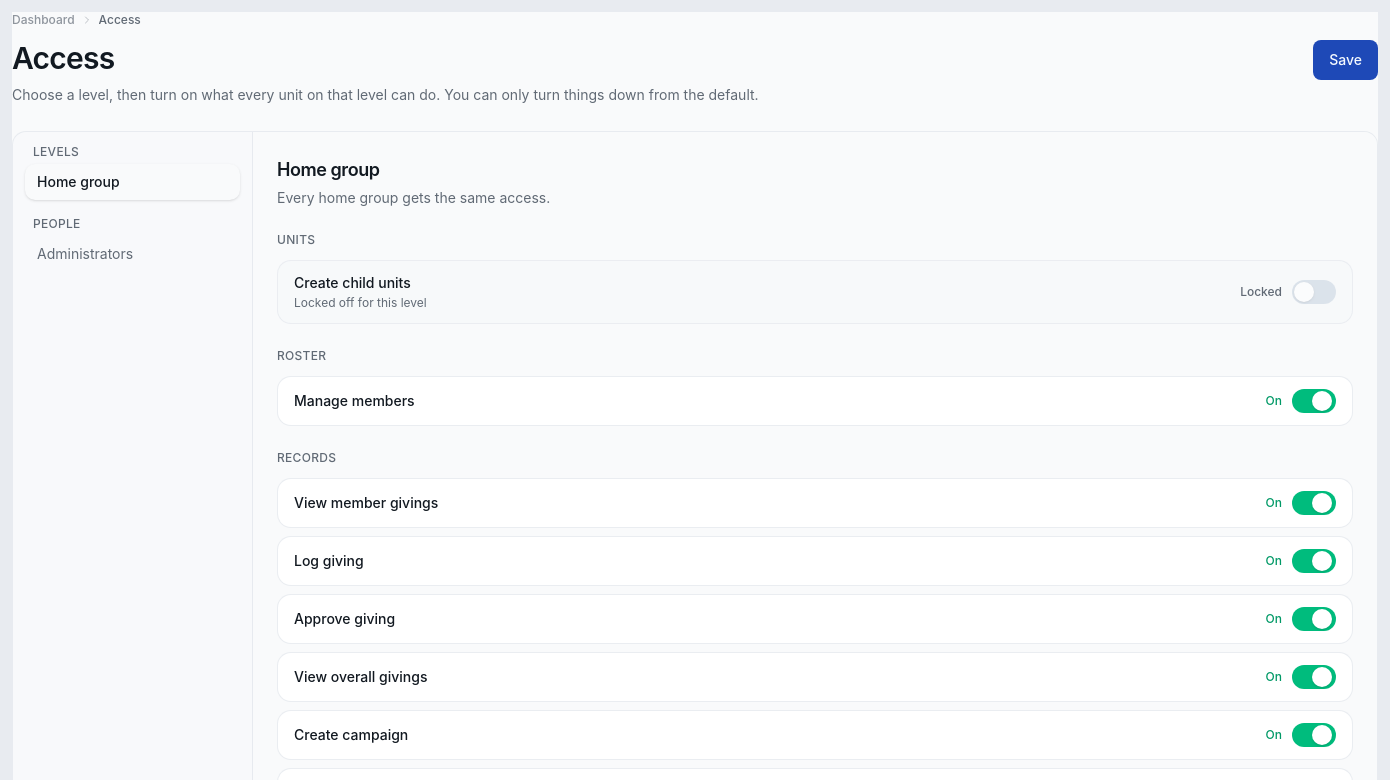
Access page groups › lists subjects in a sidebar and shows one level at a time
Expected: the button "Home group" is shown, [25, 164, 240, 200]
Expected: the heading "Home group" is shown, [277, 159, 380, 180]
Step 1. Click the button "Administrators" → {"x": 132, "y": 254}, box [25, 236, 240, 272]
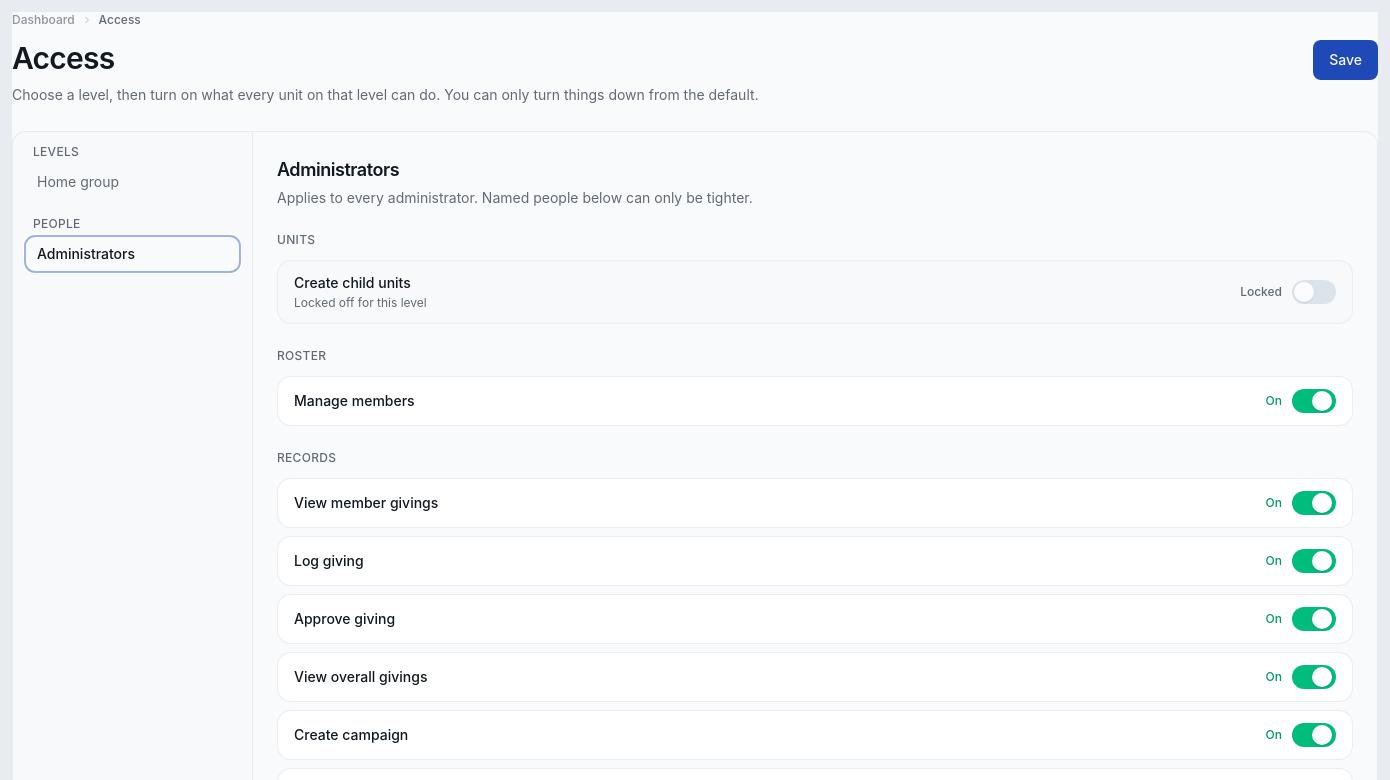
Expected: the switch named "Administrators manageRoster" is shown, [1292, 389, 1336, 413]
Result: the heading "Administrators" is shown at [277, 159, 399, 180]
